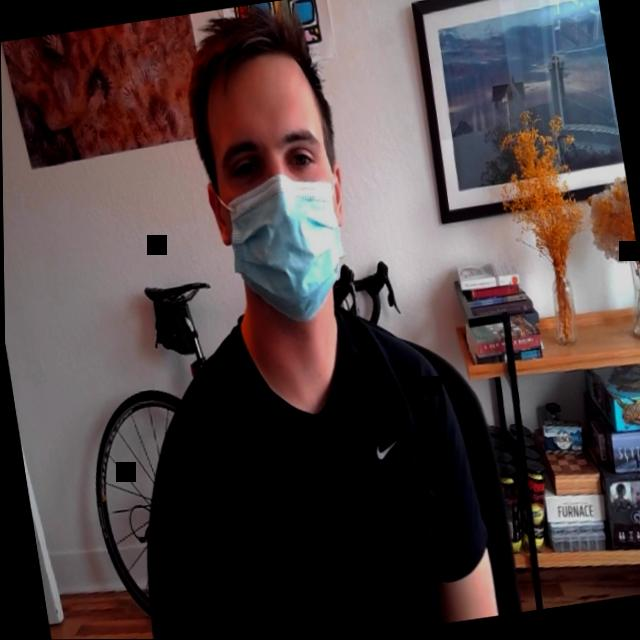Mask: (193, 46, 357, 336)
